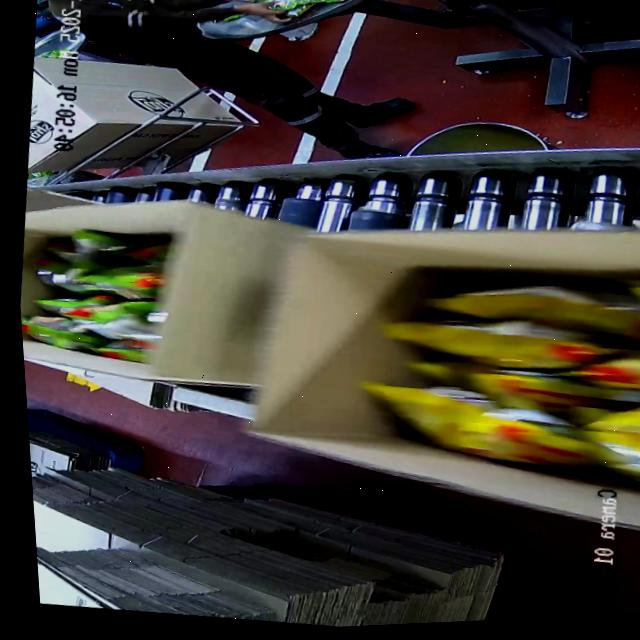SALTED: (337, 232, 640, 501)
